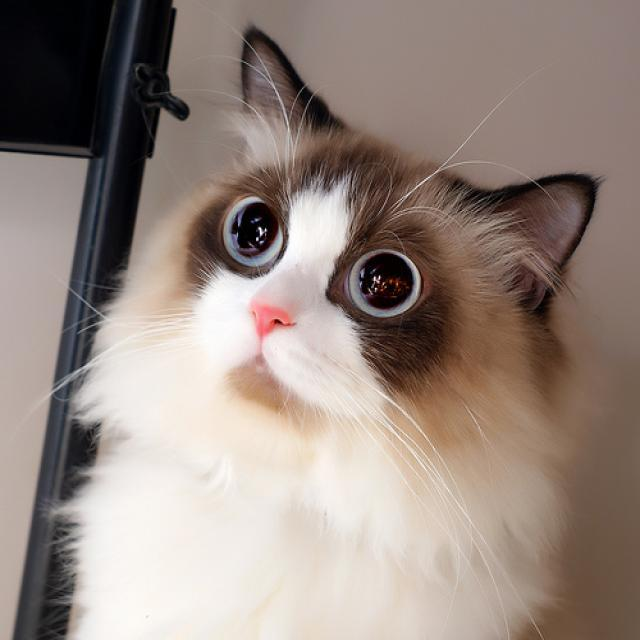Ragdoll: (84, 24, 606, 536)
